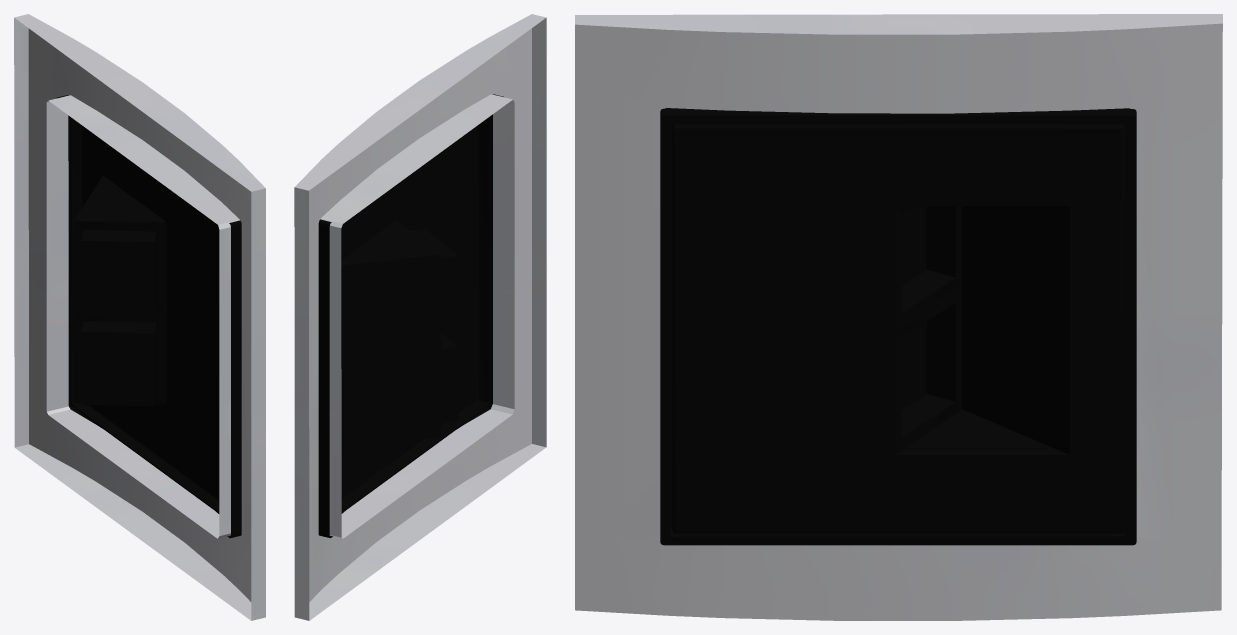
File: SM_Socket_027.obj
3 renders of one model, left to right at view 1: azimuth 30°, elevation 25°; view 2: azimuth 150°, elevation 25°; view 3: azimuth 270°, elevation 25°, orthographic. The views are drawn at different scales.
Visible parts, largest first — view 1: SM_Socket_027; view 2: SM_Socket_027; view 3: SM_Socket_027.
Part boxes in pixels (bbox=[...]): SM_Socket_027: bbox=[14, 14, 265, 620]; SM_Socket_027: bbox=[294, 14, 546, 620]; SM_Socket_027: bbox=[575, 14, 1222, 620].
Bounding box in the file's own units: 0.0149 × 0.0835 × 0.0835.
2 materials, 1 textured.
